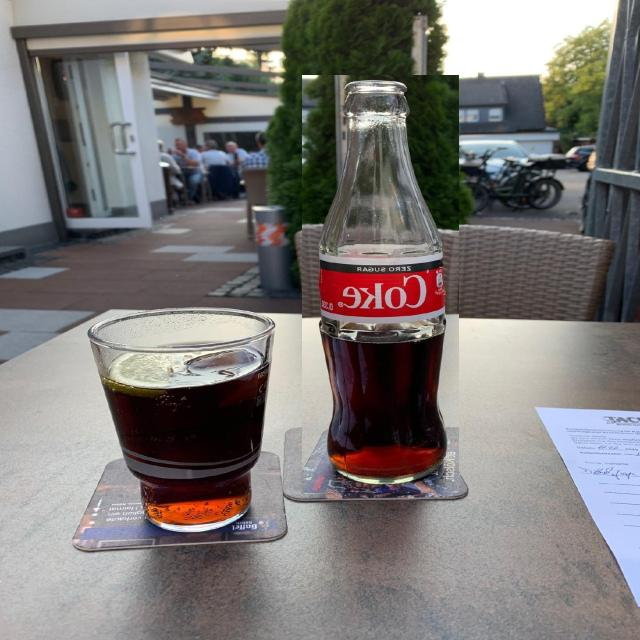coca-cola: (302, 75, 459, 493)
